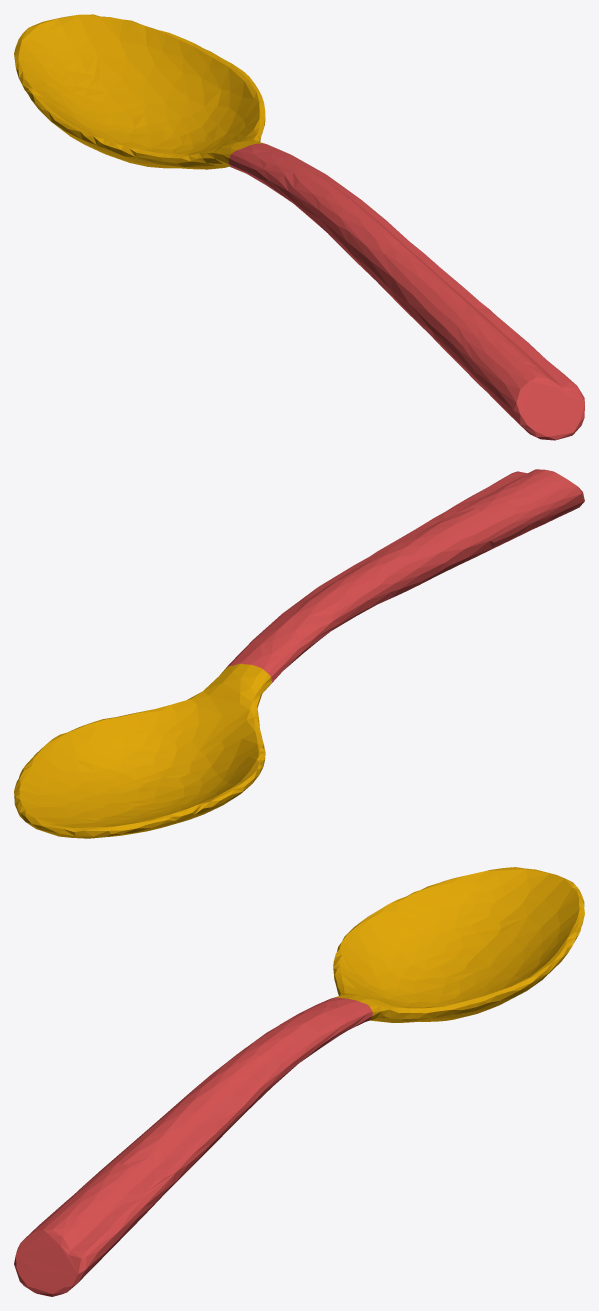
The model's file is mode_1_2pcs.glb.
3 renders of one model, top to bottom at view 1: azimuth 30°, elevation 25°; view 2: azimuth 150°, elevation 25°; view 3: azimuth 330°, elevation 25°, orthographic.
Visible parts, largest first — view 1: piece_0.obj, piece_1.obj; view 2: piece_0.obj, piece_1.obj; view 3: piece_0.obj, piece_1.obj.
Boxes of the visible parts, bbox=[...] form: piece_0.obj: bbox=[14, 14, 265, 169]; piece_1.obj: bbox=[228, 143, 584, 440]; piece_0.obj: bbox=[14, 663, 271, 838]; piece_1.obj: bbox=[227, 469, 584, 683]; piece_0.obj: bbox=[333, 867, 584, 1022]; piece_1.obj: bbox=[14, 997, 372, 1296].
Size of the model in its own units: 0.217 by 0.0921 by 1.
